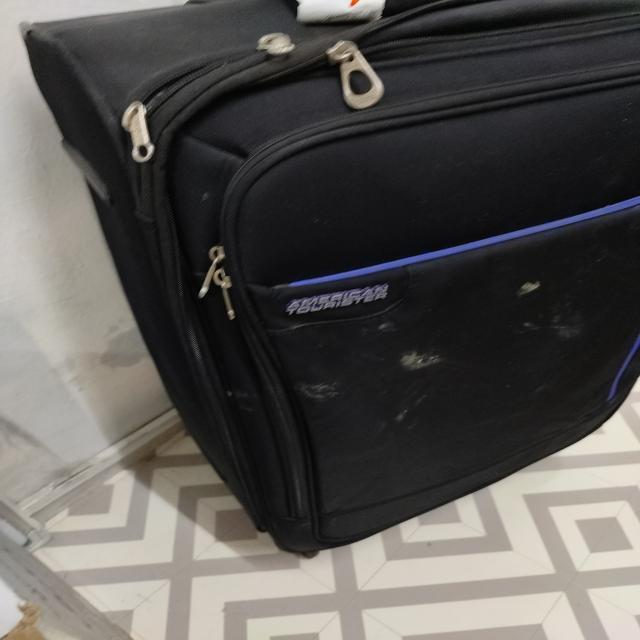suitcaserotation: (14, 0, 640, 560)
